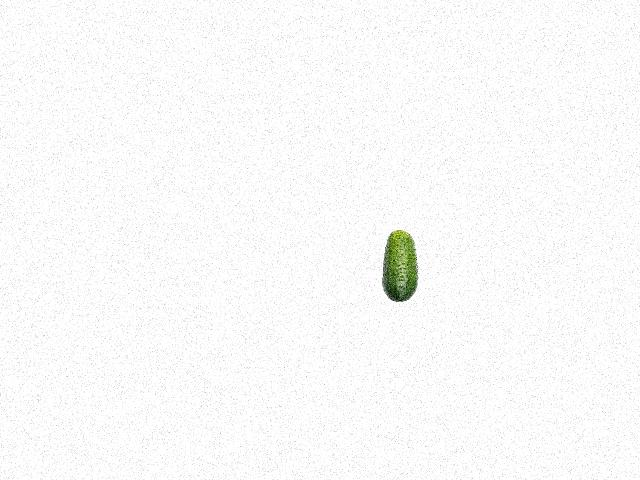cucumber: (382, 229, 419, 302)
